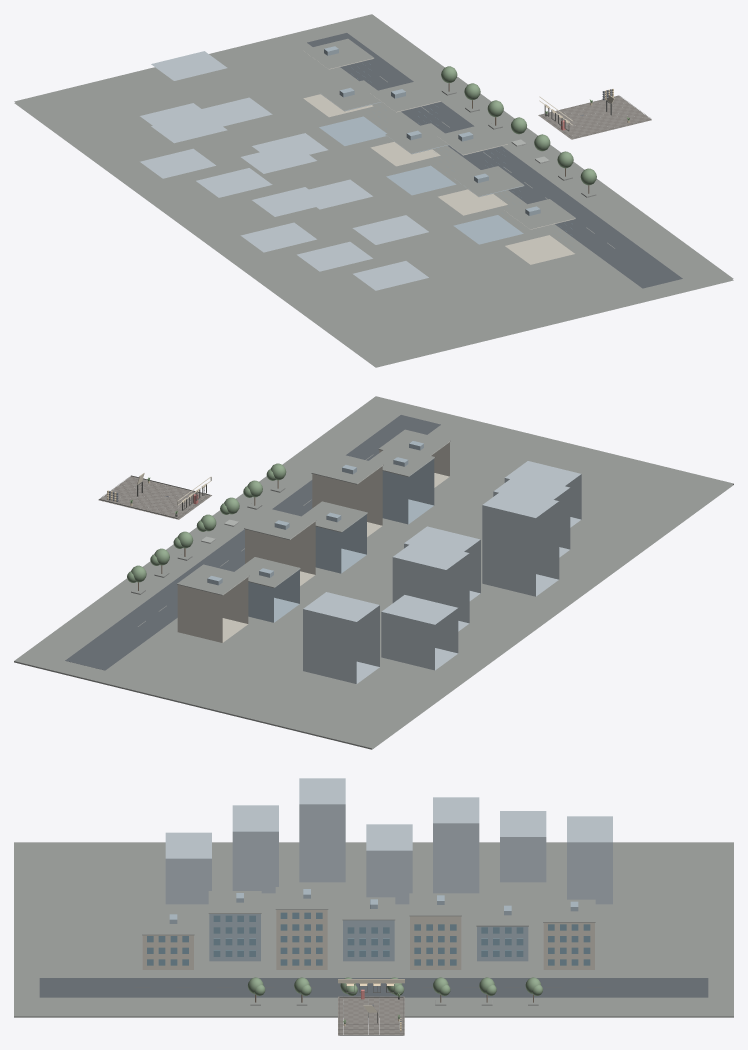
Rendered from office_detail.glb.
3 views of the same model, one above another, from view 1: azimuth 30°, elevation 25°; view 2: azimuth 150°, elevation 25°; view 3: azimuth 270°, elevation 25° (orthographic).
Visible parts, largest first — view 1: exterior_flat, exterior_plaster, interior_fabric, exterior_foliage; view 2: exterior_flat, exterior_plaster, interior_fabric, exterior_foliage, interior_foliage; view 3: exterior_flat, exterior_plaster, exterior_glass, interior_fabric, exterior_foliage, interior_plaster.
Part boxes in pixels (x1=…): exterior_flat: x1=14, y1=14, x2=733, y2=367; exterior_plaster: x1=140, y1=46, x2=574, y2=290; interior_fabric: x1=538, y1=89, x2=651, y2=139; exterior_foliage: x1=441, y1=66, x2=596, y2=185; exterior_flat: x1=14, y1=396, x2=733, y2=749; exterior_plaster: x1=177, y1=441, x2=581, y2=683; interior_fabric: x1=98, y1=476, x2=211, y2=519; exterior_foliage: x1=127, y1=463, x2=286, y2=582; interior_foliage: x1=130, y1=477, x2=239, y2=531; exterior_flat: x1=14, y1=842, x2=733, y2=1017; exterior_plaster: x1=142, y1=778, x2=612, y2=969; exterior_glass: x1=147, y1=912, x2=590, y2=965; interior_fabric: x1=338, y1=996, x2=404, y2=1035; exterior_foliage: x1=247, y1=977, x2=542, y2=995; interior_plaster: x1=338, y1=979, x2=404, y2=1031.
Size of the model in its own units: 98.15 by 17.32 by 140.
